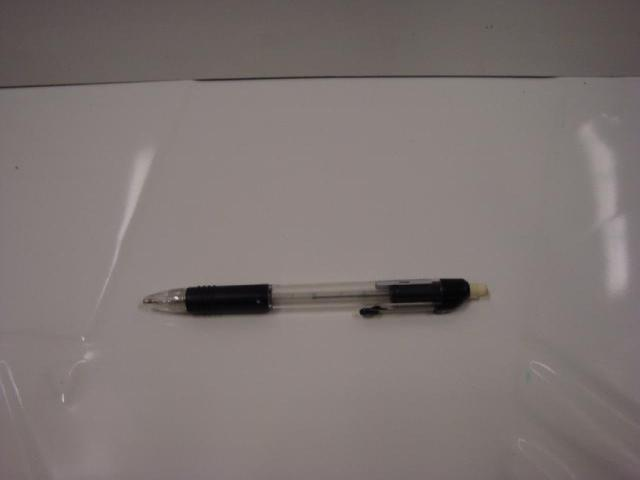PEN: (129, 263, 494, 340)
